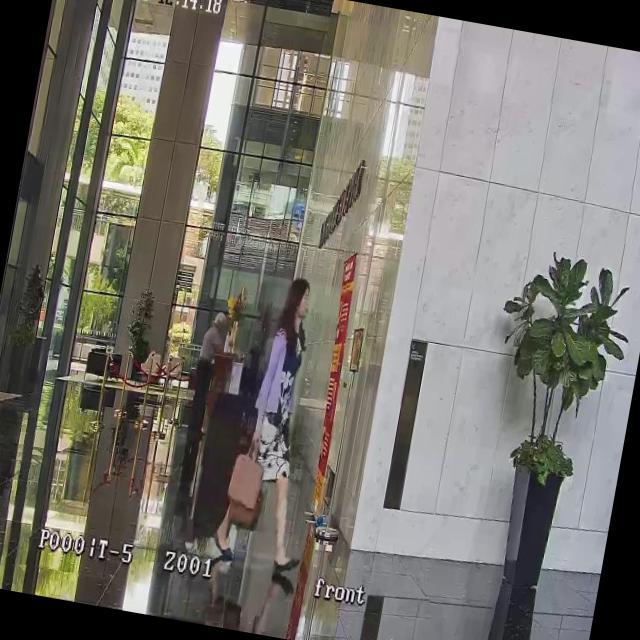person: (210, 272, 345, 584), (185, 308, 230, 438)
